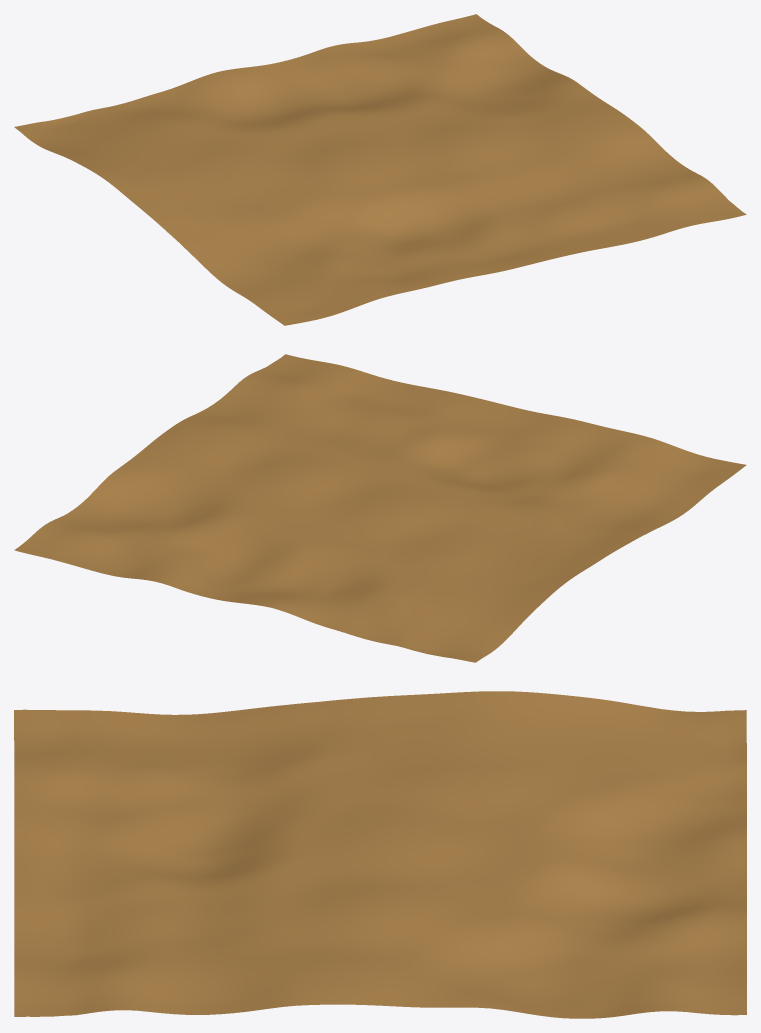
The model's file is terre_carre11.fbx.
The picture shows the model from 3 angles, top to bottom: view 1: azimuth 30°, elevation 25°; view 2: azimuth 150°, elevation 25°; view 3: azimuth 270°, elevation 25°; orthographic projection. The views are drawn at different scales.
Visible parts, largest first — view 1: terre_carre11; view 2: terre_carre11; view 3: terre_carre11.
Part boxes in pixels (<box>): terre_carre11: <box>14,14,746,325</box>; terre_carre11: <box>14,354,746,662</box>; terre_carre11: <box>14,691,746,1018</box>.
Bounding box in the file's own units: 710 × 32.49 × 721.
